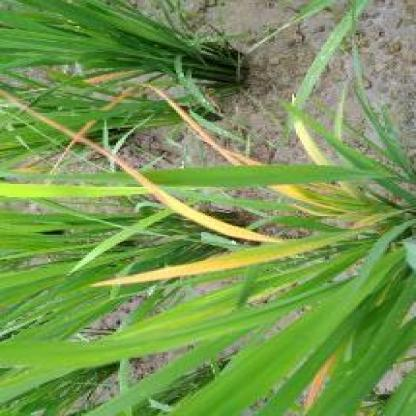Tungro: (1, 87, 279, 244), (89, 216, 390, 290)
